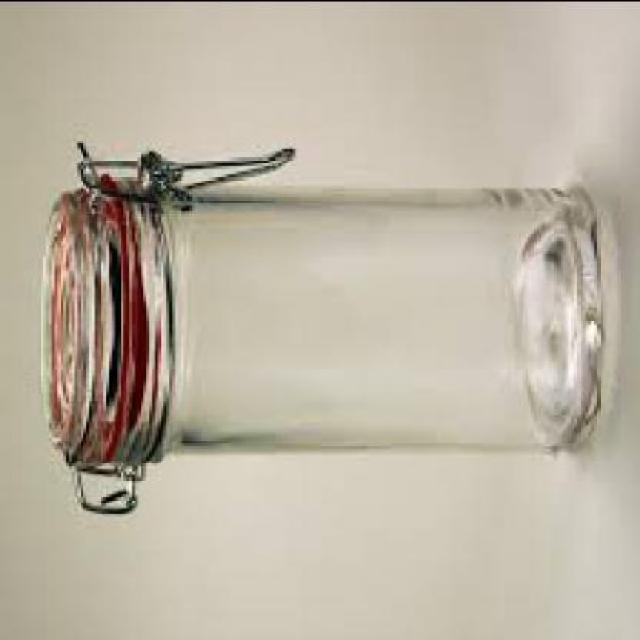GLASS: (40, 178, 614, 473)
METAL: (69, 147, 293, 193), (72, 476, 134, 516)
